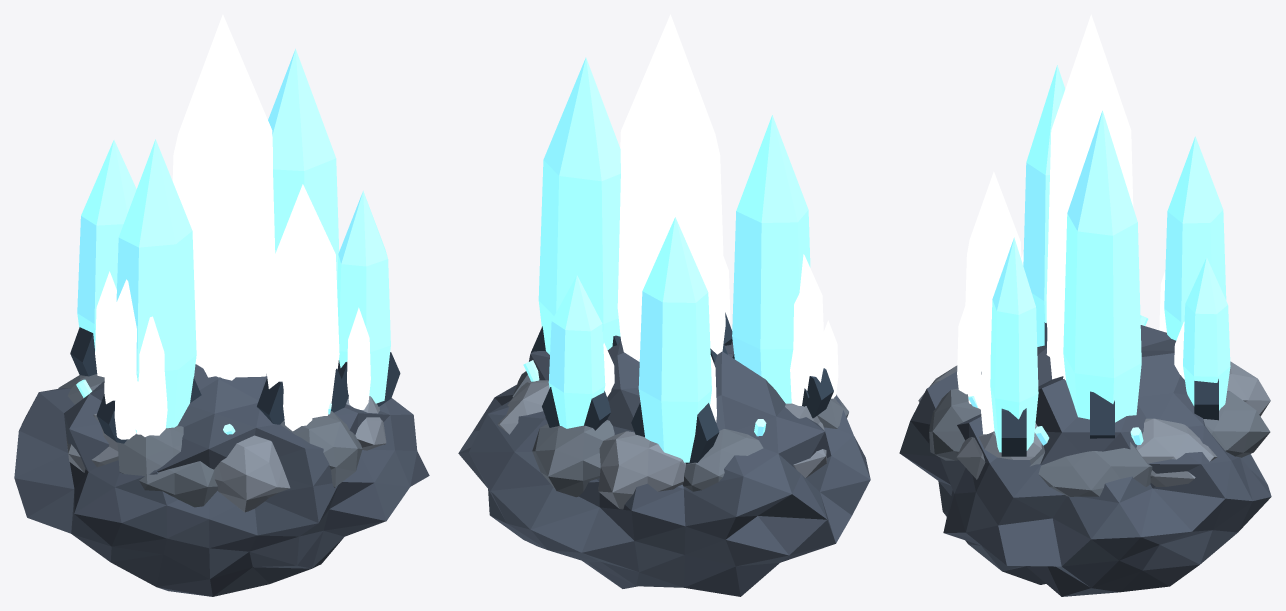
Rendered from ore_Prometium_detail.glb.
3 renders of one model, left to right at view 1: azimuth 30°, elevation 25°; view 2: azimuth 150°, elevation 25°; view 3: azimuth 270°, elevation 25°, orthographic.
Visible parts, largest first — view 1: root_fractured_asteroid, crystal_main_0, crystal_main_1, crystal_main_3, crystal_main_2, crystal_main_5, crystal_main_4, rock_armor_4, rock_armor_3, facet_spark_1, crystal_main_6, rock_armor_2 (+12 smaller); view 2: root_fractured_asteroid, crystal_main_0, crystal_main_2, crystal_main_1, crystal_main_4, crystal_main_7, rock_armor_7, rock_armor_8, crystal_main_6, rock_armor_6, rock_armor_9, crystal_socket_4 (+5 smaller); view 3: root_fractured_asteroid, crystal_main_2, crystal_main_0, crystal_main_4, crystal_main_5, crystal_main_3, crystal_main_1, crystal_main_7, rock_armor_0, rock_armor_9, rock_armor_8, rock_armor_2 (+7 smaller).
Boxes of the visible parts, <box> form: root_fractured_asteroid: <box>14,364,429,596</box>; crystal_main_0: <box>172,14,275,377</box>; crystal_main_1: <box>116,139,196,428</box>; crystal_main_3: <box>266,184,339,417</box>; crystal_main_2: <box>268,49,339,288</box>; crystal_main_5: <box>337,191,390,403</box>; crystal_main_4: <box>77,140,136,350</box>; rock_armor_4: <box>117,425,217,507</box>; rock_armor_3: <box>214,435,290,512</box>; facet_spark_1: <box>136,316,167,436</box>; crystal_main_6: <box>104,279,138,435</box>; rock_armor_2: <box>280,411,362,487</box>; root_fractured_asteroid: <box>458,341,870,596</box>; crystal_main_0: <box>617,14,725,361</box>; crystal_main_2: <box>538,57,620,354</box>; crystal_main_1: <box>732,115,810,403</box>; crystal_main_4: <box>638,217,711,462</box>; crystal_main_7: <box>548,275,605,428</box>; rock_armor_7: <box>598,431,685,509</box>; rock_armor_8: <box>532,420,614,497</box>; crystal_main_6: <box>790,254,824,405</box>; rock_armor_6: <box>682,429,763,491</box>; rock_armor_9: <box>497,380,549,434</box>; crystal_socket_4: <box>631,402,719,463</box>; root_fractured_asteroid: <box>899,325,1271,596</box>; crystal_main_2: <box>1063,110,1141,422</box>; crystal_main_0: <box>1046,14,1133,379</box>; crystal_main_4: <box>1164,136,1226,340</box>; crystal_main_5: <box>990,237,1038,452</box>; crystal_main_3: <box>964,171,1021,408</box>; crystal_main_1: <box>1023,65,1065,346</box>; crystal_main_7: <box>1183,257,1230,410</box>; rock_armor_0: <box>1029,442,1152,496</box>; rock_armor_9: <box>1136,418,1217,486</box>; rock_armor_8: <box>1203,390,1270,457</box>; rock_armor_2: <box>929,388,980,460</box>.
Size of the model in its own units: 1.83 by 2.71 by 1.64.
